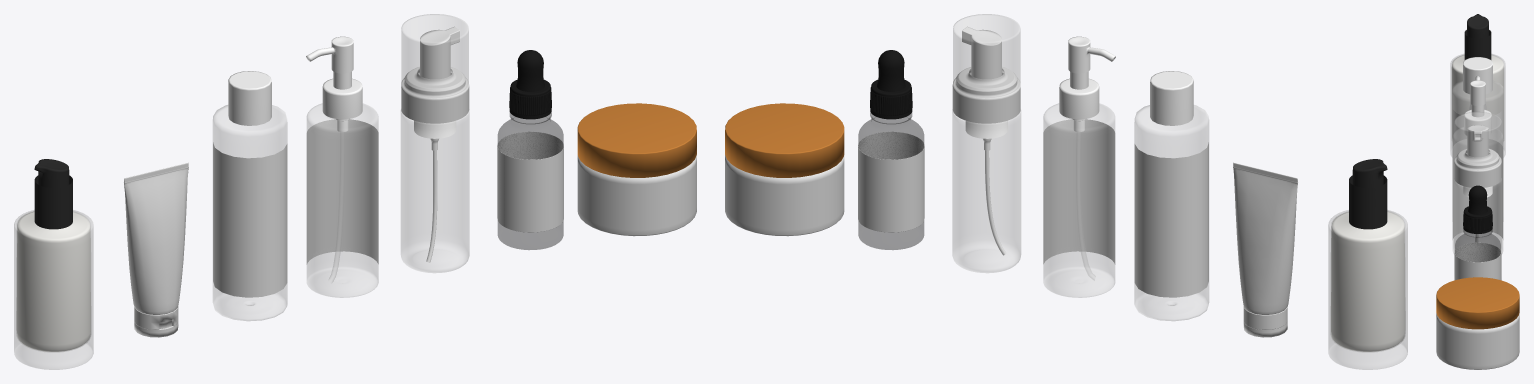
Rendered from serum.glb.
3 views of the same model, side by side, from view 1: azimuth 30°, elevation 25°; view 2: azimuth 150°, elevation 25°; view 3: azimuth 270°, elevation 25° (orthographic). The views are drawn at different scales.
Visible parts, largest first — view 1: Main bottle, Cylinder.001, Bottle, Bottle.001, Main bottle.001, main bottle, Label, Cream, Cylinder.009, Label.001, glass cap, Serum Bottle (+12 smaller); view 2: Main bottle, Cylinder.001, Bottle, Bottle.001, Main bottle.001, main bottle, Label, Cream, Cylinder.009, Label.001, glass cap, Serum Bottle (+11 smaller); view 3: Cylinder.001, glass cap, Bottle.001, Label, main bottle, Label.001, Cream, Upper part, Serum Bottle, Main bottle, CAp, Pump (+9 smaller).
Boxes of the visible parts, bbox=[...] form: Main bottle: bbox=[213, 105, 287, 320]; Cylinder.001: bbox=[577, 103, 696, 236]; Bottle: bbox=[307, 103, 378, 297]; Bottle.001: bbox=[14, 210, 93, 369]; Main bottle.001: bbox=[213, 142, 287, 297]; main bottle: bbox=[401, 110, 469, 272]; Label: bbox=[306, 119, 378, 264]; Cream: bbox=[16, 211, 90, 351]; Cylinder.009: bbox=[124, 162, 188, 314]; Label.001: bbox=[497, 131, 563, 232]; glass cap: bbox=[401, 14, 468, 97]; Serum Bottle: bbox=[498, 112, 563, 249]; Main bottle: bbox=[1134, 105, 1208, 320]; Cylinder.001: bbox=[725, 103, 844, 236]; Bottle: bbox=[1043, 103, 1114, 297]; Bottle.001: bbox=[1328, 210, 1407, 369]; Main bottle.001: bbox=[1134, 142, 1208, 297]; main bottle: bbox=[952, 110, 1020, 272]; Label: bbox=[1043, 119, 1115, 264]; Cream: bbox=[1331, 211, 1405, 351]; Cylinder.009: bbox=[1233, 162, 1297, 314]; Label.001: bbox=[858, 131, 924, 232]; glass cap: bbox=[953, 14, 1020, 97]; Serum Bottle: bbox=[858, 112, 923, 249]; Cylinder.001: bbox=[1436, 277, 1519, 369]; glass cap: bbox=[1454, 112, 1501, 170]; Bottle.001: bbox=[1450, 54, 1505, 157]; Label: bbox=[1452, 139, 1503, 239]; main bottle: bbox=[1454, 179, 1501, 279]; Label.001: bbox=[1454, 242, 1501, 279]; Cream: bbox=[1452, 55, 1503, 138]; Upper part: bbox=[1454, 148, 1501, 187]; Serum Bottle: bbox=[1455, 229, 1500, 261]; Main bottle: bbox=[1452, 80, 1503, 147]; CAp: bbox=[1463, 57, 1492, 94]; Pump: bbox=[1463, 125, 1492, 197].
Bounding box in the file's own units: 0.4343 × 0.15 × 0.0672.
